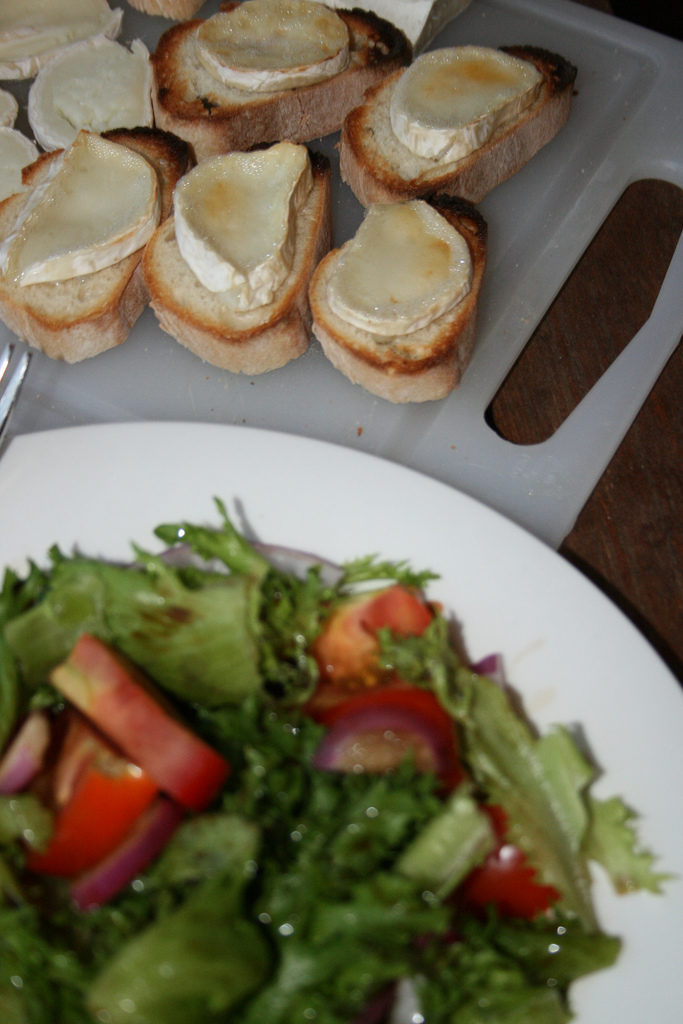chopped lettuce: (10, 539, 636, 1024)
slice of bread: (4, 127, 177, 360), (156, 128, 320, 371), (146, 5, 421, 128), (309, 197, 479, 392), (357, 38, 560, 199)
